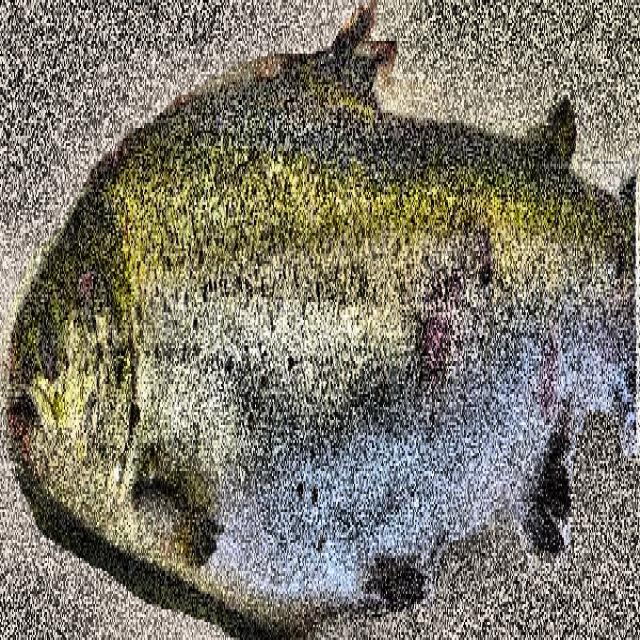mild_red: (105, 59, 634, 614)
